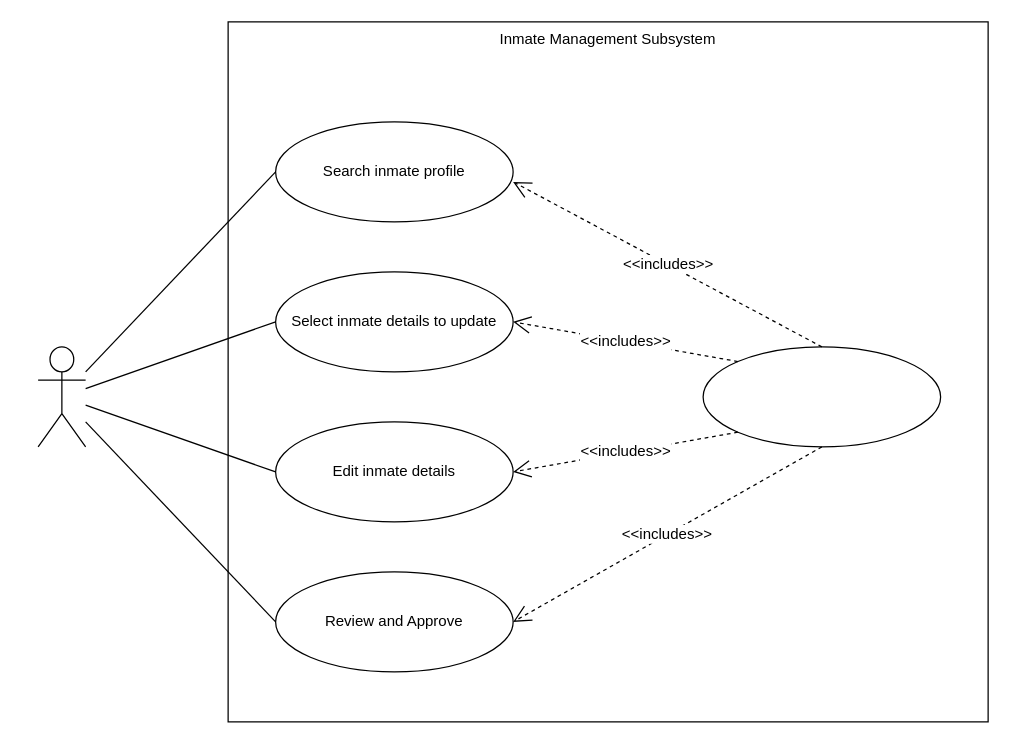
Some shapes in this 1010 by 744 pixel diagram are drawn without their labels. Here are the shapes that lost their labels. From the top down, the centre of each, then its label:
At (x=61, y=396): "Correctional Officer".
At (x=821, y=396): "Create inmate profile".
